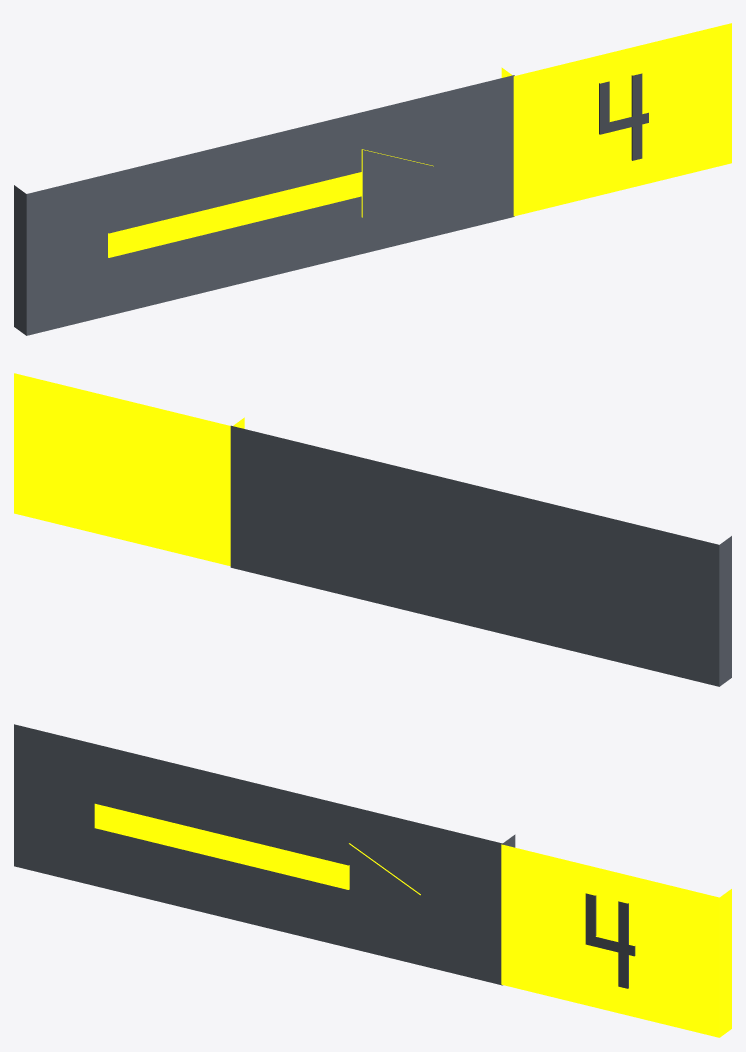
File: ext_sector4_sign_04.glb
The picture shows the model from 3 angles, top to bottom: view 1: azimuth 30°, elevation 25°; view 2: azimuth 150°, elevation 25°; view 3: azimuth 330°, elevation 25°; orthographic projection.
Parts seen in each view (by area): view 1: Panel, Sector_Block, Chevrons, Glyph_4; view 2: Panel, Sector_Block; view 3: Panel, Sector_Block, Chevrons, Glyph_4.
Boxes of the visible parts, box(x1,y1,x2,y2) form: Panel: box(14, 75, 514, 335); Sector_Block: box(501, 23, 731, 216); Chevrons: box(108, 149, 433, 257); Glyph_4: box(599, 73, 648, 160); Panel: box(230, 425, 731, 686); Sector_Block: box(14, 373, 244, 566); Panel: box(14, 724, 515, 985); Sector_Block: box(501, 844, 731, 1037); Chevrons: box(94, 803, 420, 895); Glyph_4: box(585, 893, 635, 988).
Bounding box in the file's own units: 2.6 × 0.5 × 0.088.
